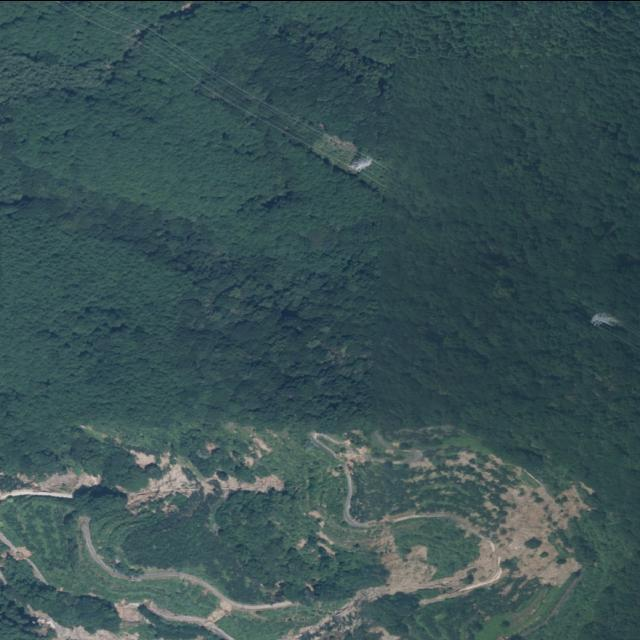landslide: (353, 531, 503, 605), (497, 488, 580, 585)
